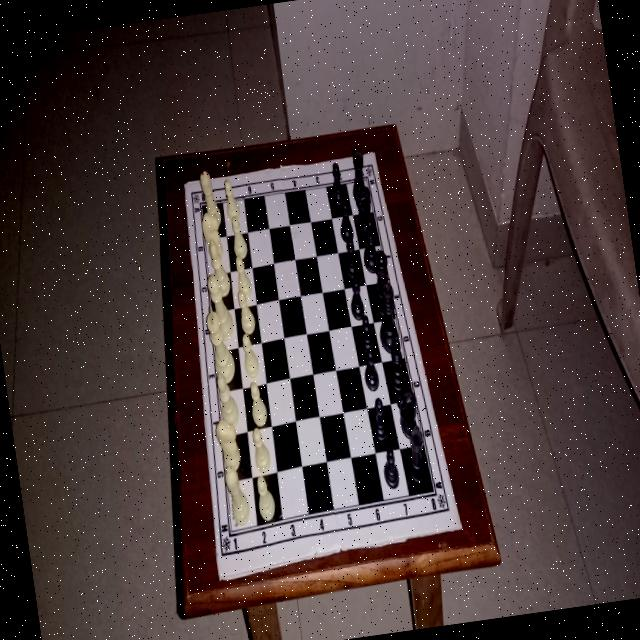corners: (452, 514, 467, 536), (213, 568, 228, 586), (368, 144, 380, 165), (180, 175, 192, 193)
